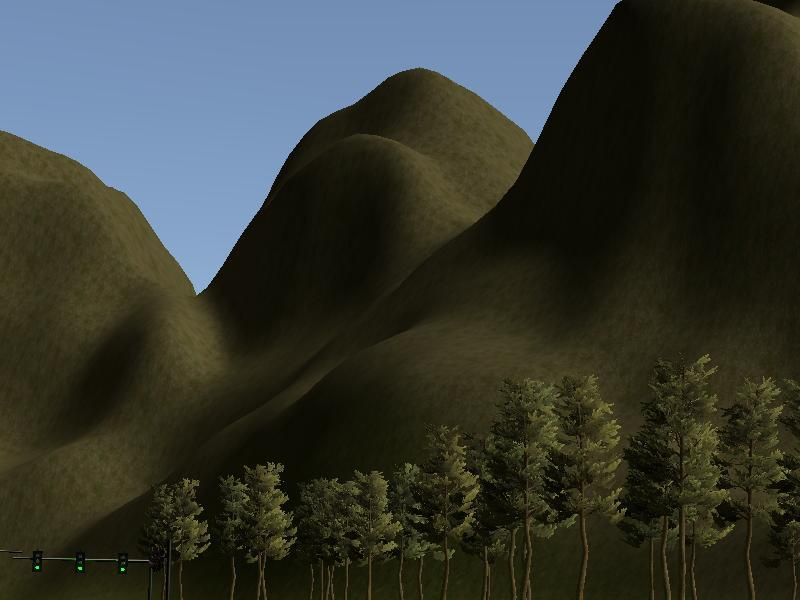Green: (29, 547, 45, 574), (117, 551, 130, 576), (75, 549, 87, 574)
